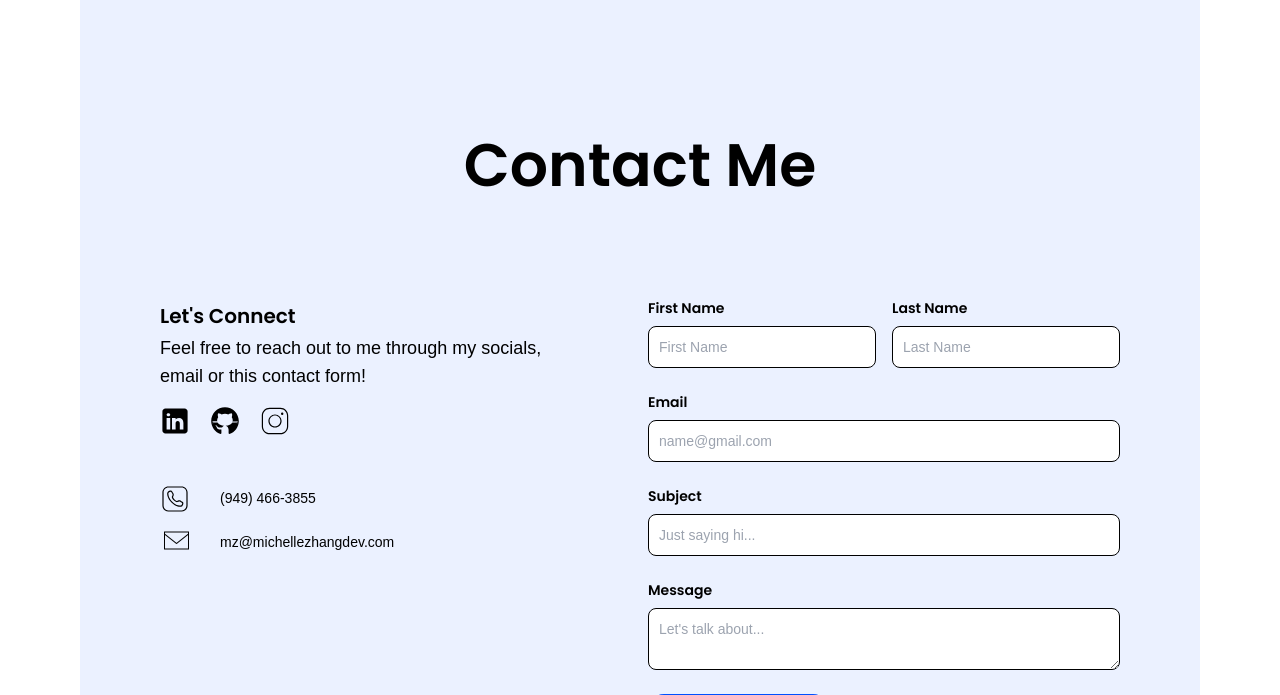
Test: ContactMeSection Component › shows an error message if submission fails with an unexpected error
The width and height of the screenshot is (1280, 695).
// Fill in form fields
Type "John" into the field labelled "First Name" at [762, 347], box [648, 326, 876, 368]
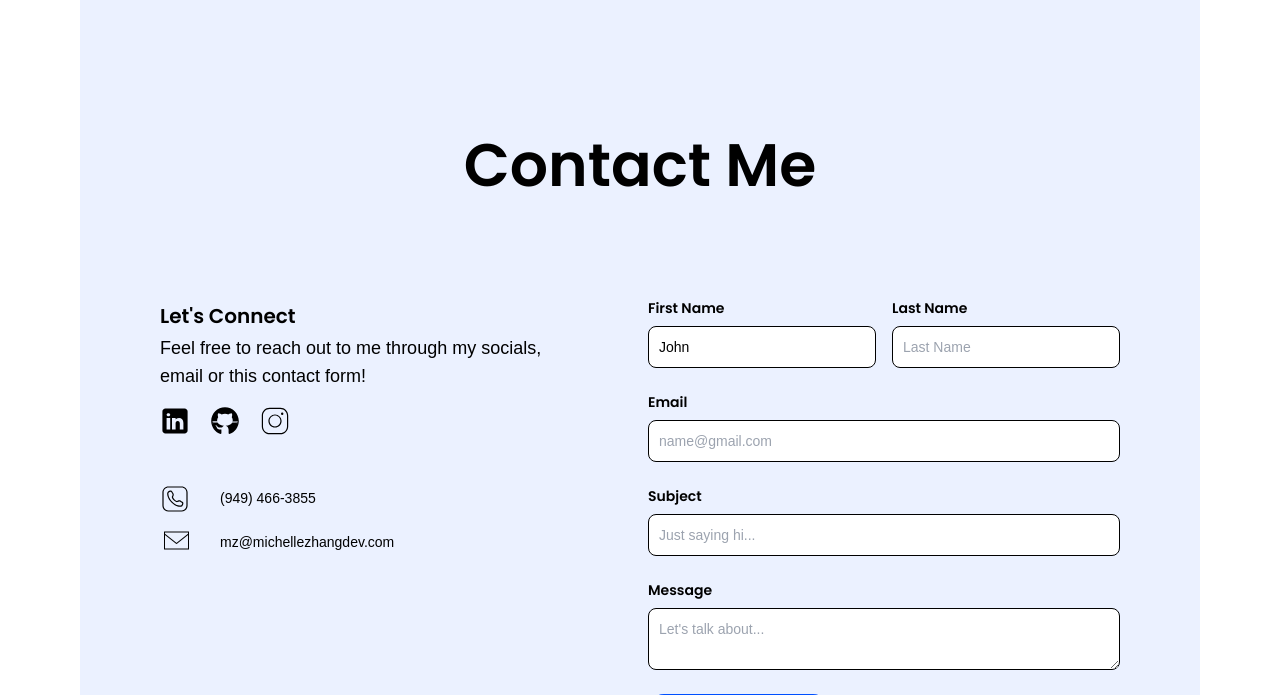
Type "Doe" into the field labelled "Last Name" at [1006, 347], box [892, 326, 1120, 368]
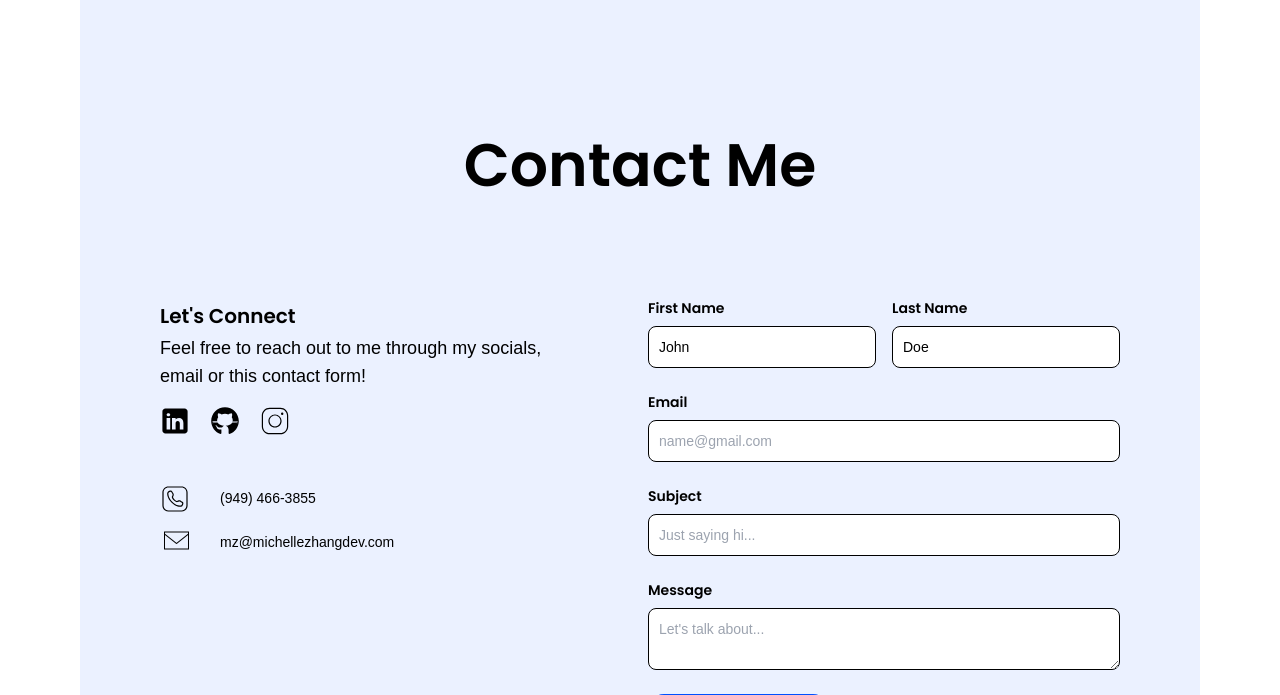
Type "john.doe@example.com" into the field labelled "Email" at [884, 441], box [648, 420, 1120, 462]
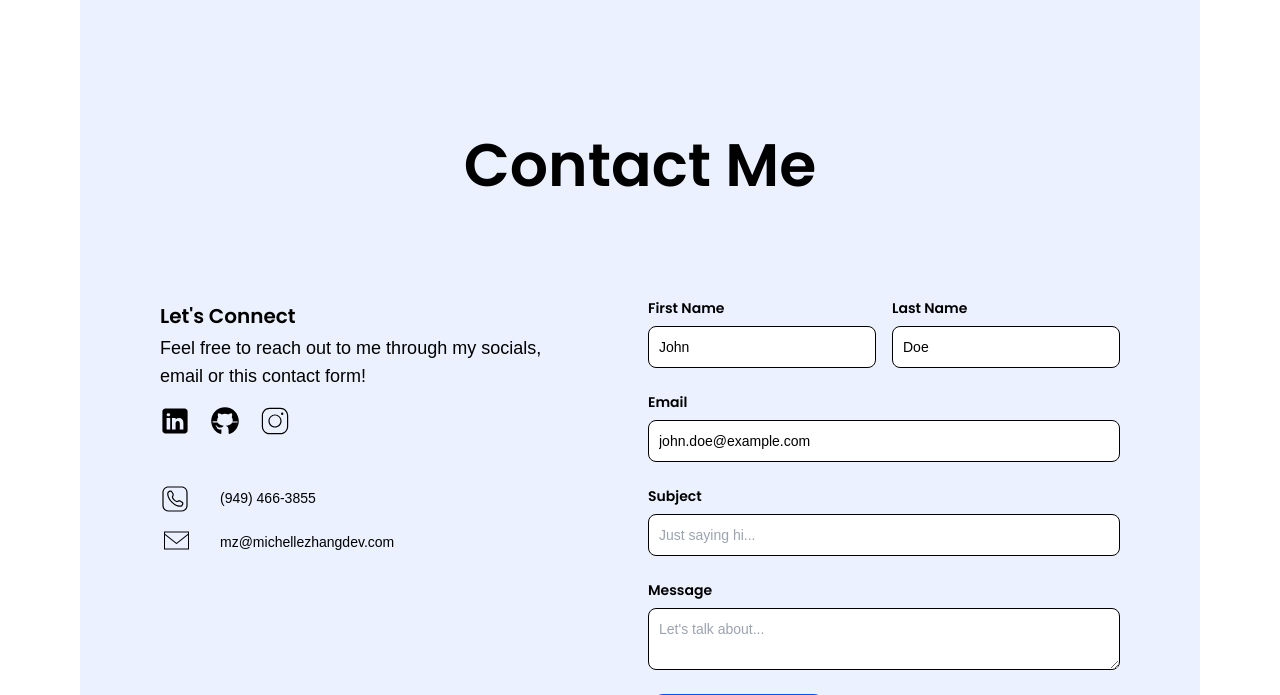
Type "Hello" into the field labelled "Subject" at [884, 535], box [648, 514, 1120, 556]
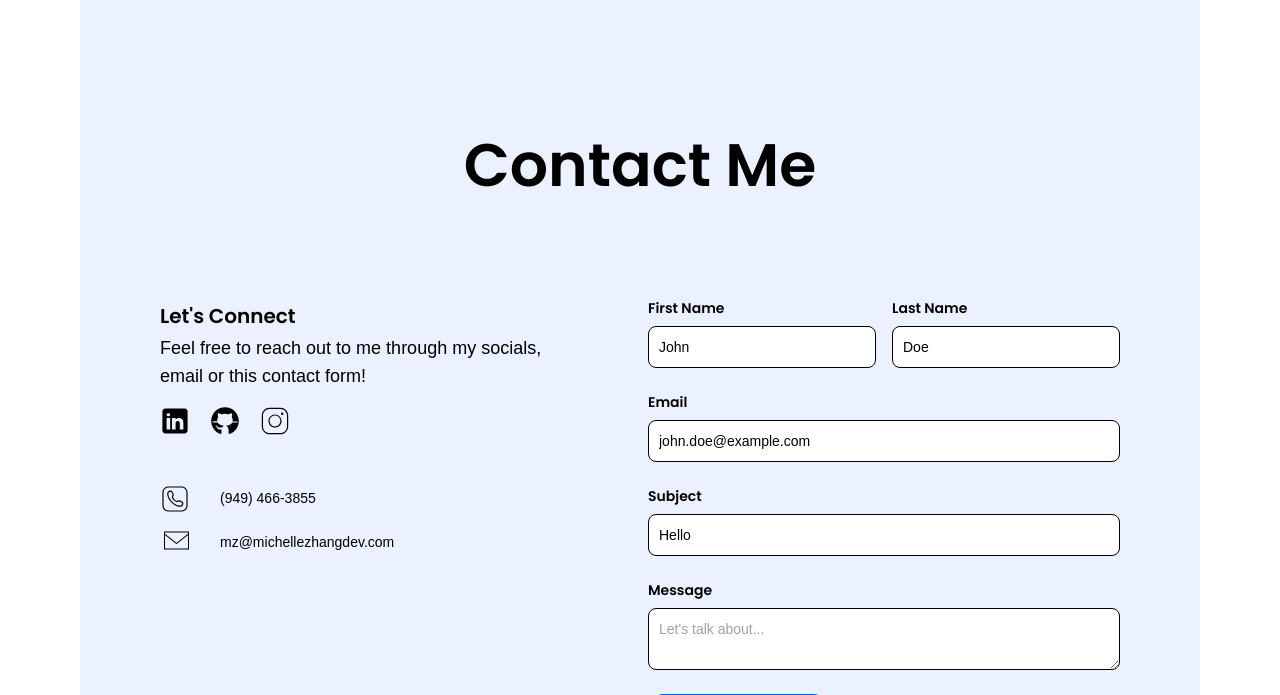
Type "This is a test message." into the text box labelled "Message" at [884, 639], box [648, 608, 1120, 670]
(page scrolled)
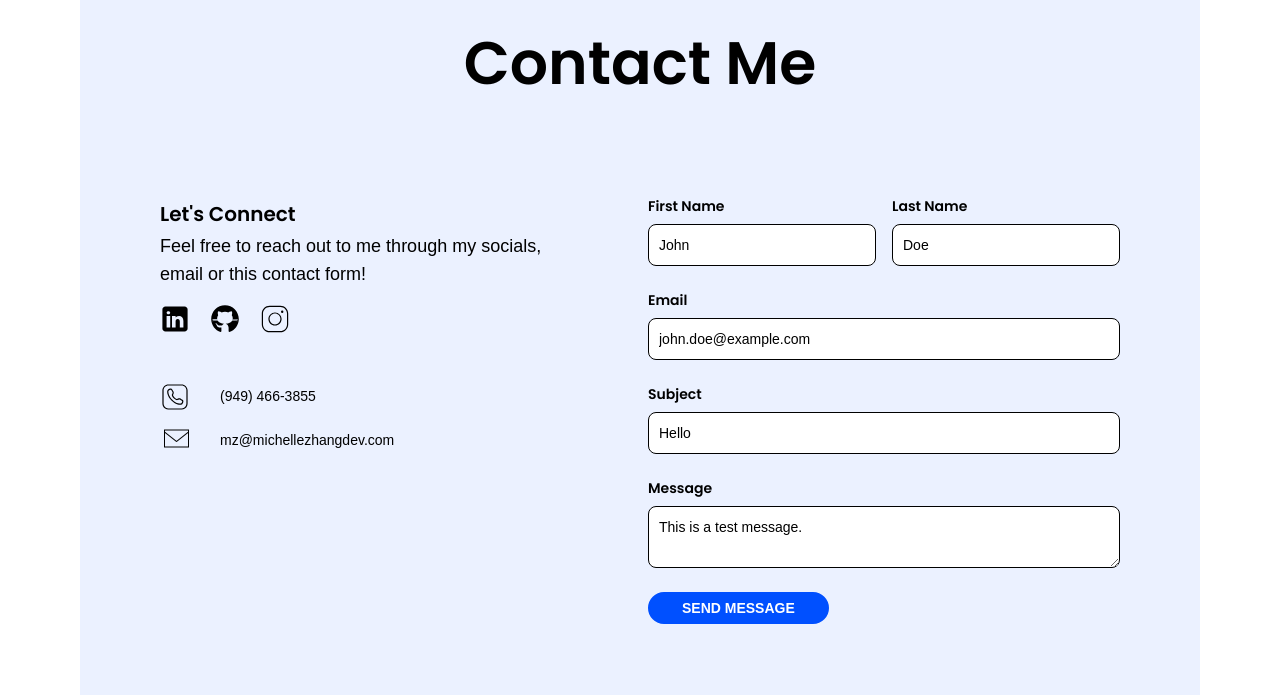
// Submit the form
Click the button "Send Message" at [738, 608], box [648, 592, 829, 624]
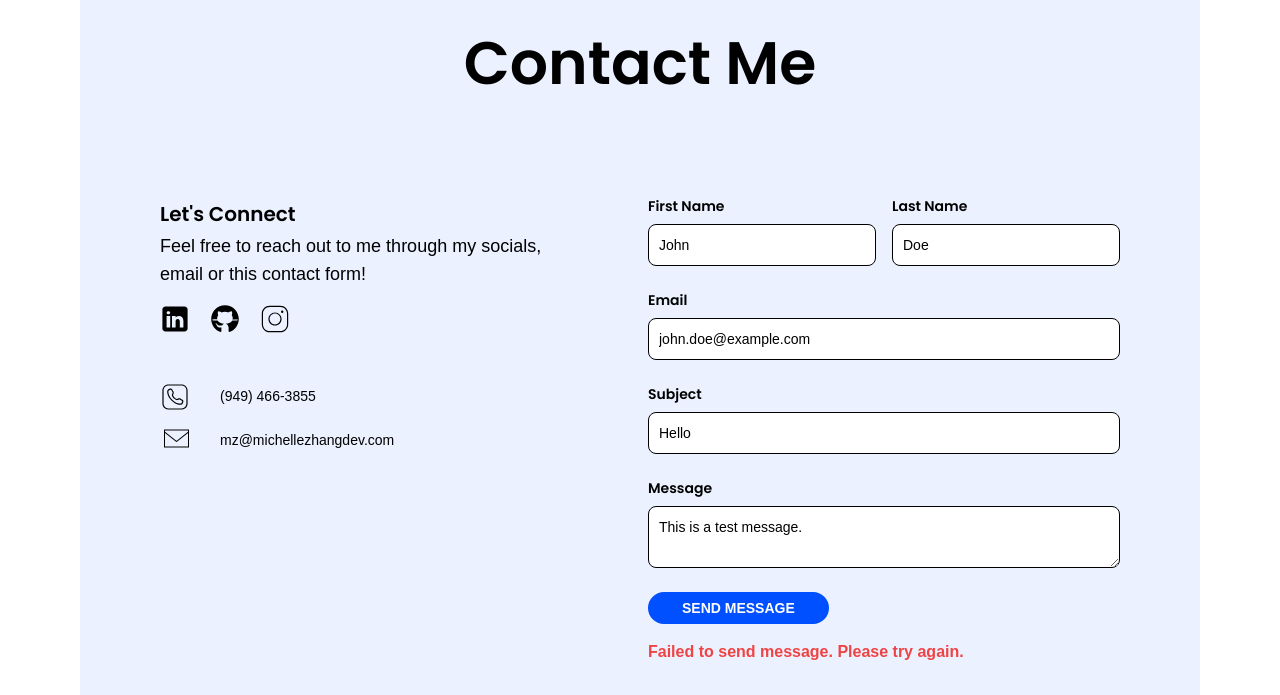
Expected: the text "Failed to send message. Please try again." is shown, [648, 643, 964, 660]
